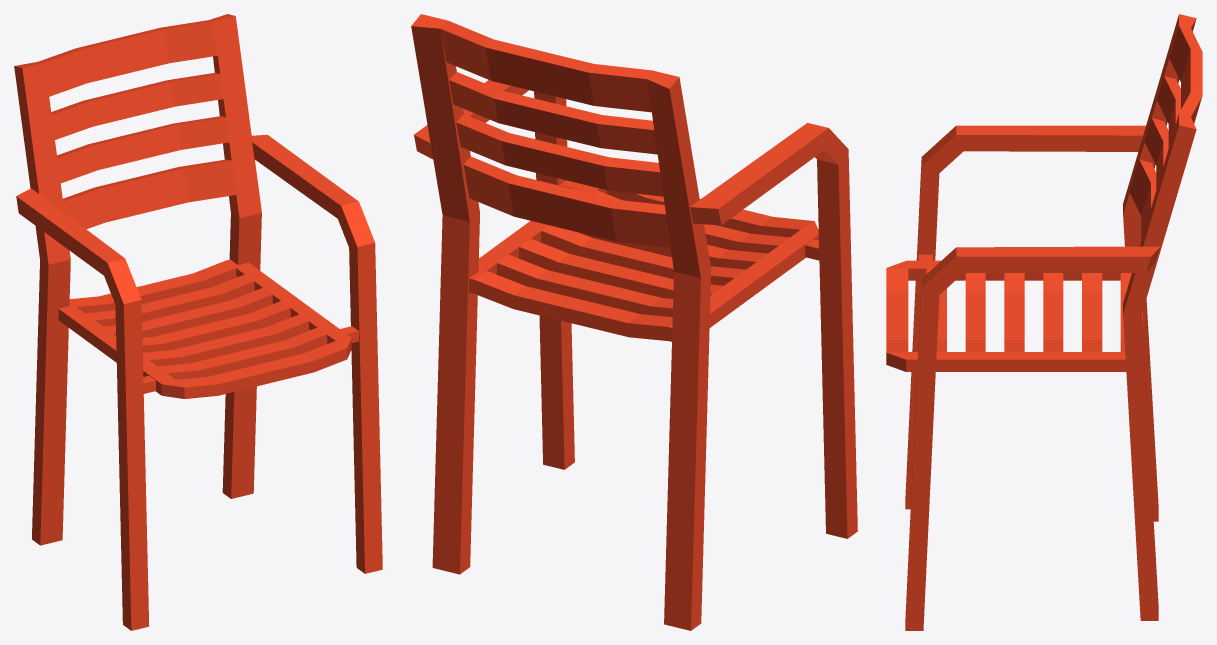
Rendered from SM_Chair_B_City.fbx.
The picture shows the model from 3 angles, left to right: view 1: azimuth 30°, elevation 25°; view 2: azimuth 150°, elevation 25°; view 3: azimuth 270°, elevation 25°; orthographic projection. The views are drawn at different scales.
Parts seen in each view (by area): view 1: SM_Chair_B_City; view 2: SM_Chair_B_City; view 3: SM_Chair_B_City.
Part boxes in pixels (x1,y1,x2,y2): SM_Chair_B_City: [14, 14, 382, 630]; SM_Chair_B_City: [411, 14, 857, 630]; SM_Chair_B_City: [886, 14, 1202, 630].
Bounding box in the file's own units: 0.6825 × 1.2 × 0.6956.
